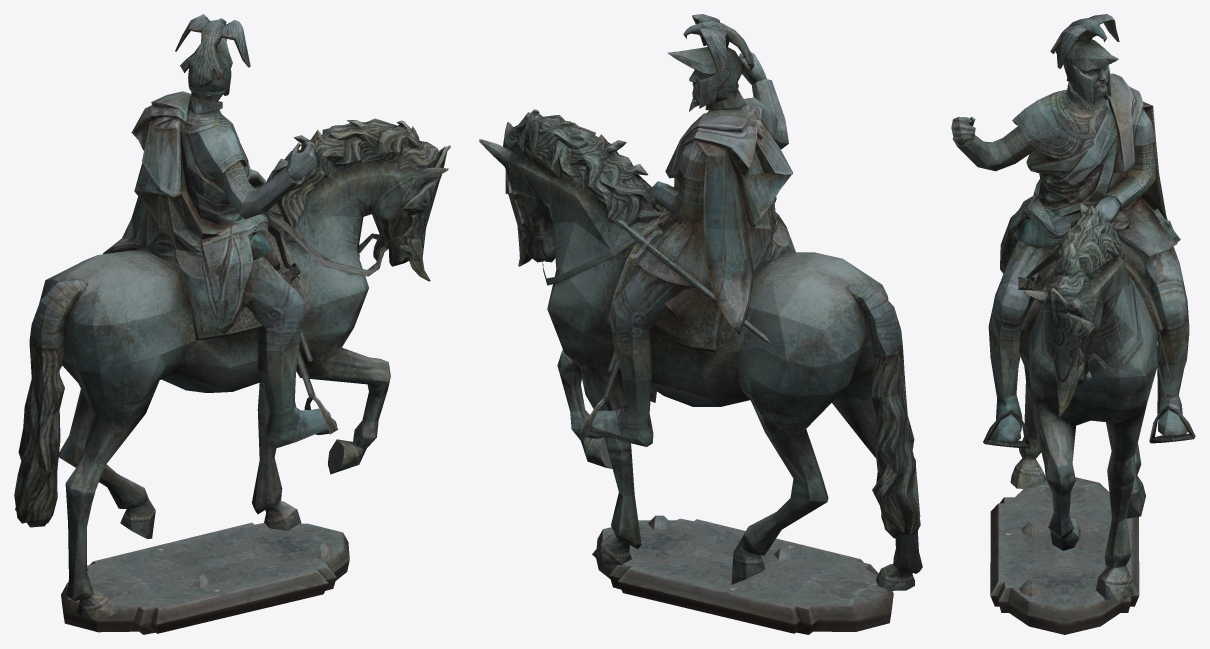
File: bg_lut_lucastle_herostatue04_sm_artree.FBX
3 views of the same model, side by side, from view 1: azimuth 30°, elevation 25°; view 2: azimuth 150°, elevation 25°; view 3: azimuth 270°, elevation 25° (orthographic). The views are drawn at different scales.
Parts seen in each view (by area): view 1: bg_lut_lucastle_herostatue04_sm_artree; view 2: bg_lut_lucastle_herostatue04_sm_artree; view 3: bg_lut_lucastle_herostatue04_sm_artree.
Boxes of the visible parts, box(x1,y1,x2,y2) form: bg_lut_lucastle_herostatue04_sm_artree: box(14, 14, 450, 634); bg_lut_lucastle_herostatue04_sm_artree: box(479, 14, 922, 634); bg_lut_lucastle_herostatue04_sm_artree: box(951, 14, 1195, 634).
Bounding box in the file's own units: 302 × 373 × 148.
